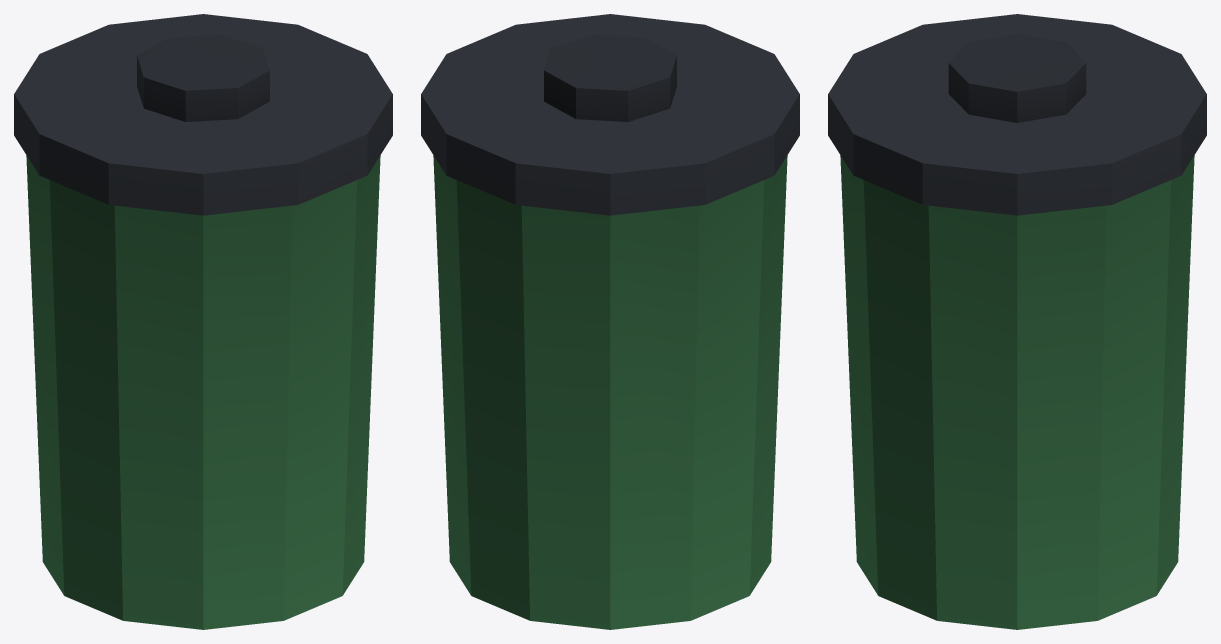
File: cesto-DhZdWre4.glb
The picture shows the model from 3 angles, left to right: view 1: azimuth 30°, elevation 25°; view 2: azimuth 150°, elevation 25°; view 3: azimuth 270°, elevation 25°; orthographic projection.
Parts seen in each view (by area): view 1: cilindro, cilindro.001, cilindro.002; view 2: cilindro, cilindro.001, cilindro.002; view 3: cilindro, cilindro.001, cilindro.002.
Boxes of the visible parts, x1,y1,x2,y2 form: cilindro: (26, 155, 380, 629); cilindro.001: (14, 14, 392, 215); cilindro.002: (137, 34, 269, 121); cilindro: (433, 155, 787, 629); cilindro.001: (421, 14, 799, 215); cilindro.002: (544, 34, 676, 121); cilindro: (840, 155, 1194, 629); cilindro.001: (828, 14, 1206, 215); cilindro.002: (948, 33, 1086, 122).
Bounding box in the file's own units: 0.66 × 0.96 × 0.66.
